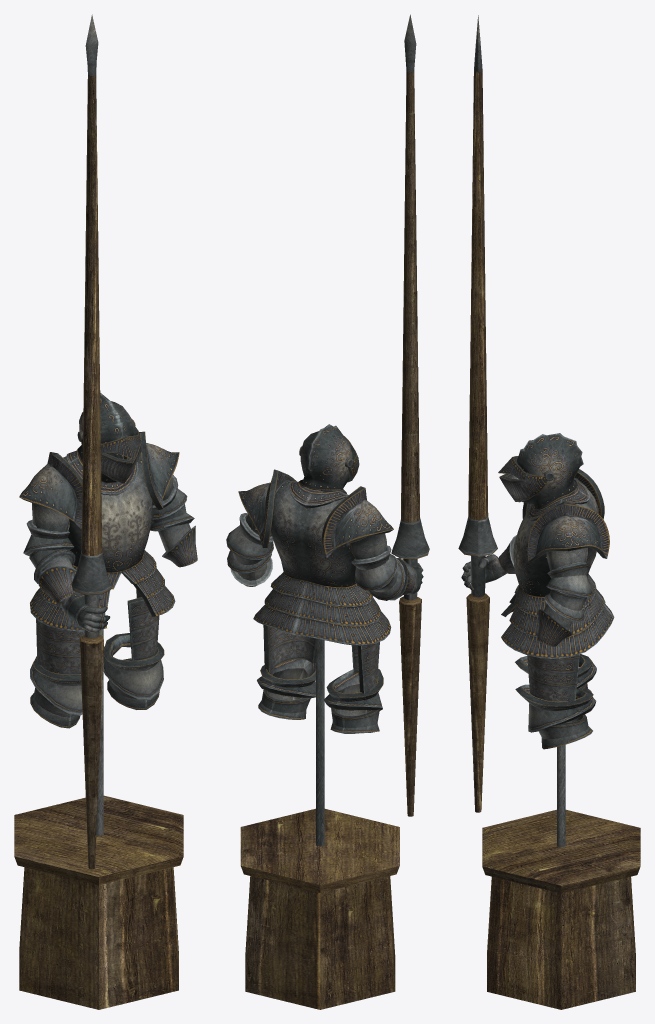
The model's file is Knight_Armor.FBX.
3 renders of one model, left to right at view 1: azimuth 30°, elevation 25°; view 2: azimuth 150°, elevation 25°; view 3: azimuth 270°, elevation 25°, orthographic. The views are drawn at different scales.
Visible parts, largest first — view 1: Knight_Armor; view 2: Knight_Armor; view 3: Knight_Armor.
Boxes of the visible parts, x1,y1,x2,y2 form: Knight_Armor: (14, 14, 197, 1009); Knight_Armor: (226, 14, 429, 1009); Knight_Armor: (458, 15, 640, 1009).
Bounding box in the file's own units: 81.6 × 435 × 76.69.
